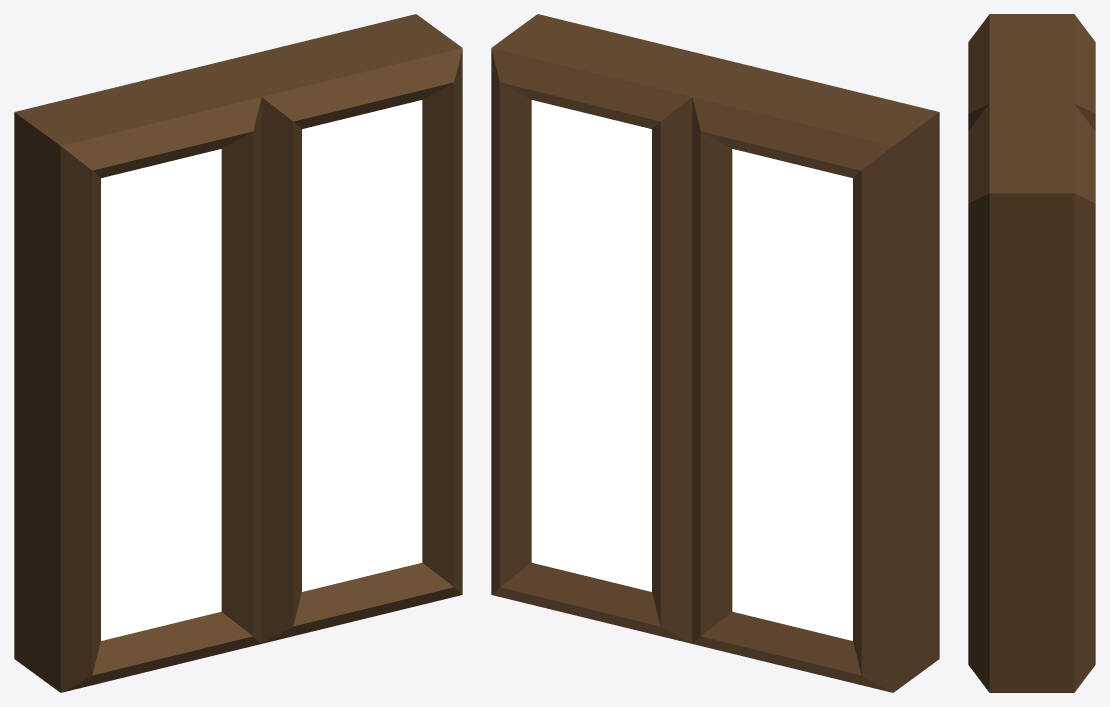
File: buildings-window-wood.glb
3 views of the same model, side by side, from view 1: azimuth 30°, elevation 25°; view 2: azimuth 150°, elevation 25°; view 3: azimuth 270°, elevation 25° (orthographic). The views are drawn at different scales.
Visible parts, largest first — view 1: window-wood; view 2: window-wood; view 3: window-wood.
Part boxes in pixels (x1,y1,x2,y2): window-wood: [14, 14, 462, 692]; window-wood: [491, 14, 939, 692]; window-wood: [968, 14, 1095, 692].
Size of the model in its own units: 1 by 1.3 by 0.3.
